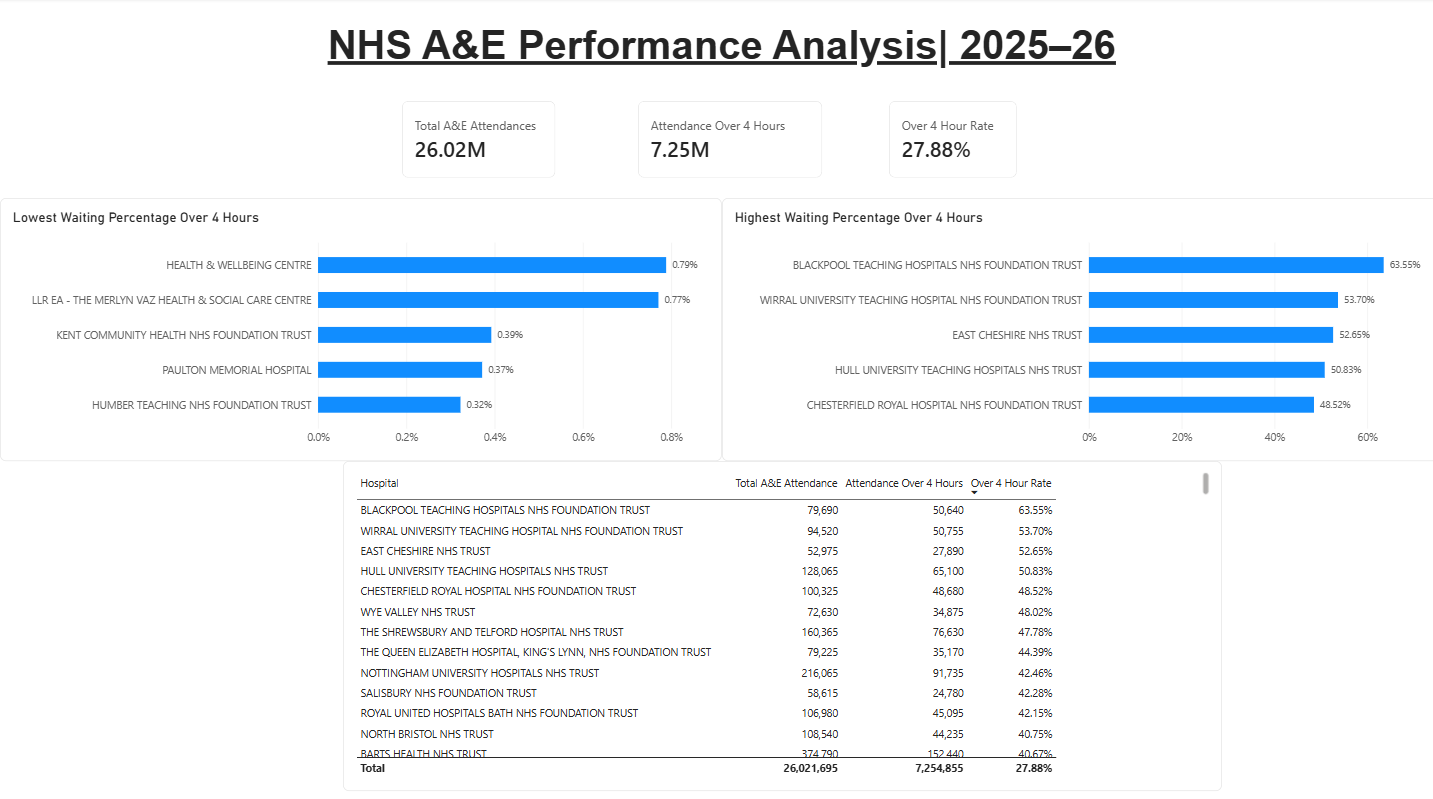

Layout of this report page (visuals, bound fields, positions):
{"tool":"powerbi","page":{"name":"Page 1","canvas":[1920,1080],"ordinal":0},"visuals":[{"type":"textbox","box":[0,31.4,1920,112.9],"z":0},{"type":"clusteredBarChart","title":"Highest Waiting Percentage Over 4 Hours","fields":{"Category":["Waiting Time in NHS Bottom to Top as %.ORG_DESCRIPTION"],"Y":["Waiting Time in NHS Bottom to Top as %.WaitingPercentage"]},"box":[960,265.5,960,350.2],"z":1000},{"type":"clusteredBarChart","title":"Lowest Waiting Percentage Over 4 Hours","fields":{"Category":["Waiting Time in NHS Bottom to Top as %.ORG_DESCRIPTION"],"Y":["Waiting Time in NHS Bottom to Top as %.WaitingPercentage"]},"box":[0,265.5,960,350.2],"z":2000},{"type":"tableEx","fields":{"Values":["Waiting Time in NHS Bottom to Top as %.ORG_DESCRIPTION","Sum(Waiting Time in NHS Bottom to Top as %.total_attendances)","Sum(Waiting Time in NHS Bottom to Top as %.over_4_hours)","Waiting Time in NHS Bottom to Top as %.WaitingPercentage"]},"box":[455.7,615.7,1168.6,438.6],"z":2001},{"type":"cardVisual","fields":{"Data":["Sum(Waiting Time in NHS Bottom to Top as %.total_attendances)"]},"box":[534.3,137.1,204.8,102.4],"z":2002},{"type":"cardVisual","fields":{"Data":["Sum(Waiting Time in NHS Bottom to Top as %.over_4_hours)"]},"box":[848.6,137.1,245.7,102.9],"z":2003},{"type":"cardVisual","fields":{"Data":["Waiting Time in NHS Bottom to Top as %.WaitingPercentage"]},"box":[1182.9,137.1,170.2,102.4],"z":2004}]}

Visuals, with their boxes in screenshot pixels (x1, y1, x2, y2), scaled from the page's 1920x1080 canvas onto the 1433x799 screenshot:
textbox: 0/23/1432/107
"Highest Waiting Percentage Over 4 Hours" clusteredBarChart: 716/196/1432/456
"Lowest Waiting Percentage Over 4 Hours" clusteredBarChart: 0/196/716/456
tableEx - Waiting Time in NHS Bottom to Top as %.ORG_DESCRIPTION x Sum(Waiting Time in NHS Bottom to Top as %.total_attendances): 340/456/1212/780
cardVisual - Sum(Waiting Time in NHS Bottom to Top as %.total_attendances): 399/101/552/177
cardVisual - Sum(Waiting Time in NHS Bottom to Top as %.over_4_hours): 633/101/817/178
cardVisual - Waiting Time in NHS Bottom to Top as %.WaitingPercentage: 883/101/1010/177
